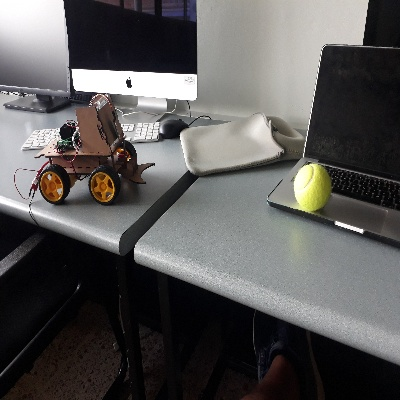Ball: (292, 164, 331, 211)
Robot: (34, 94, 155, 205)
